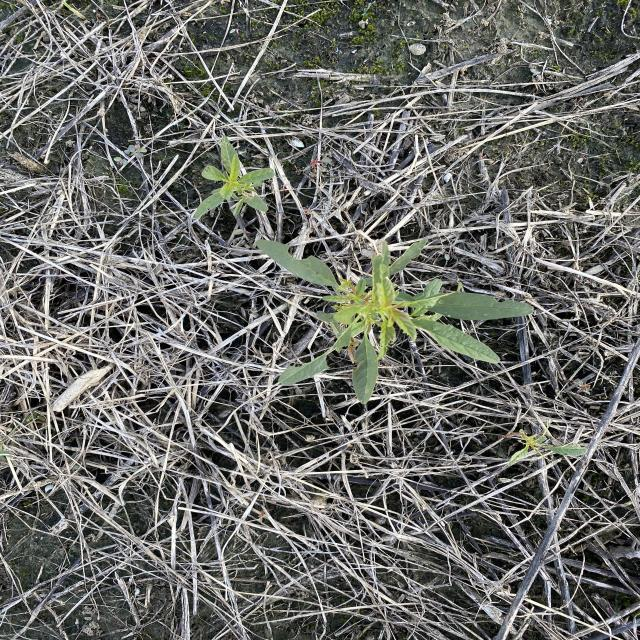Waterhemp: (252, 237, 536, 407), (192, 134, 277, 221), (508, 429, 592, 468)
